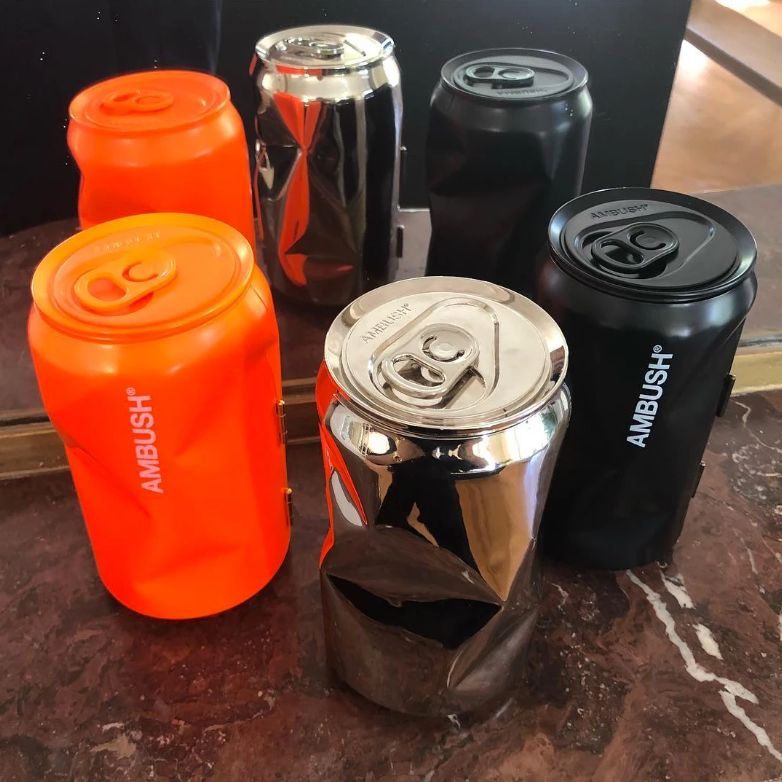can: (315, 274, 573, 725), (25, 210, 294, 617), (533, 184, 759, 575), (248, 21, 406, 307), (424, 45, 595, 277), (64, 68, 245, 221)
